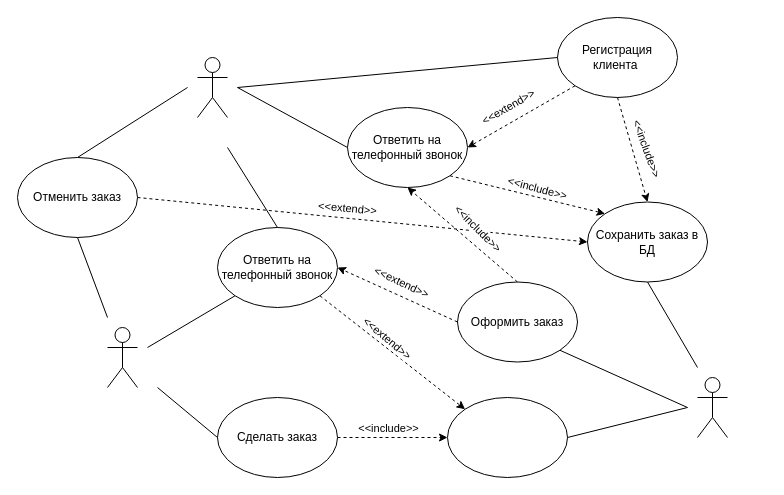
The diagram is 784 pixels wide and 495 high, and some of its shapes have lost their labels. Here are the shapes that lost their labels. From the top down, the centre of each, then its label:
At point (212, 87): "Сотрудник".
At point (122, 357): "Клиент".
At point (712, 407): "Информационная система".
At point (507, 437): "Предоставить информацию о ценах".
